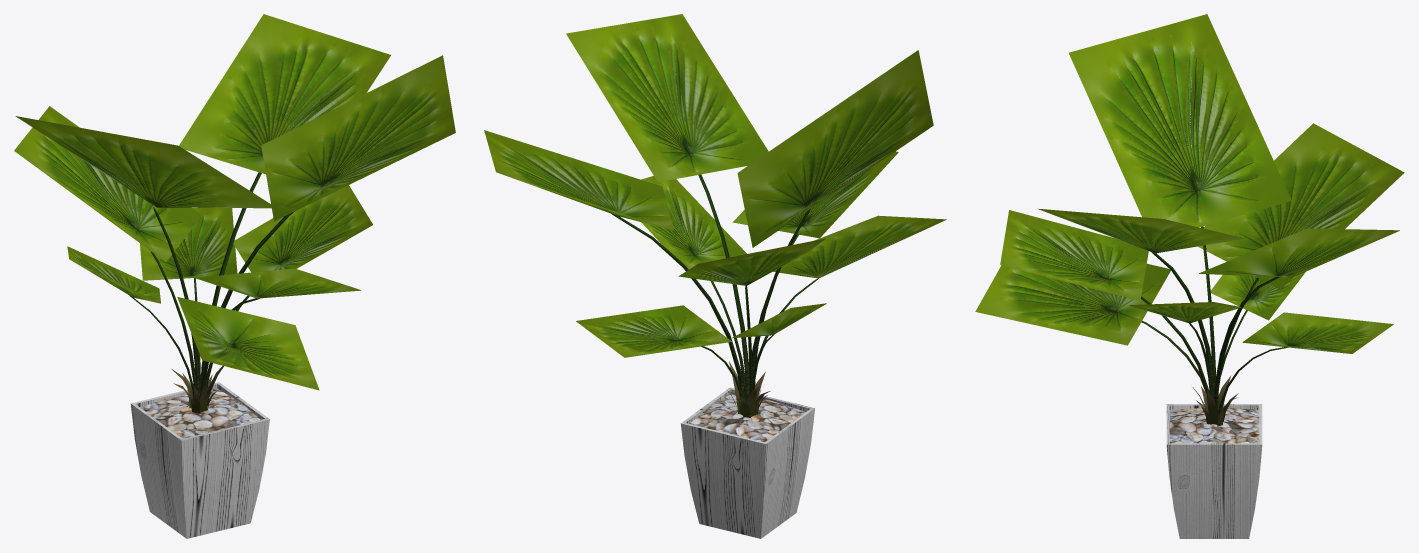
Rendered from Plant03.fbx.
The picture shows the model from 3 angles, left to right: view 1: azimuth 30°, elevation 25°; view 2: azimuth 150°, elevation 25°; view 3: azimuth 270°, elevation 25°; orthographic projection. The views are drawn at different scales.
Visible parts, largest first — view 1: Plant03_LOD0; view 2: Plant03_LOD0; view 3: Plant03_LOD0.
Part boxes in pixels (box(x1,y1,x2,y2)): Plant03_LOD0: box(14, 14, 455, 538); Plant03_LOD0: box(484, 14, 946, 538); Plant03_LOD0: box(975, 14, 1404, 538).
Size of what is drawn, in the model's own units: 92.63 by 95.3 by 87.01.
